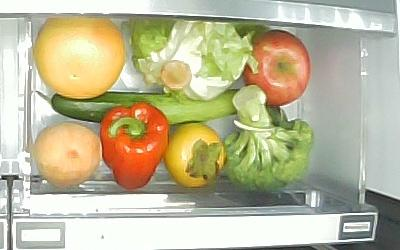apple: (241, 29, 311, 109)
broccoli: (223, 84, 315, 191)
cucumber: (34, 89, 240, 123)
grapefruit: (33, 18, 126, 100)
lettuce: (128, 18, 250, 100)
paprika: (100, 103, 169, 191)
peach: (35, 123, 103, 188)
persimmon: (163, 122, 226, 189)
